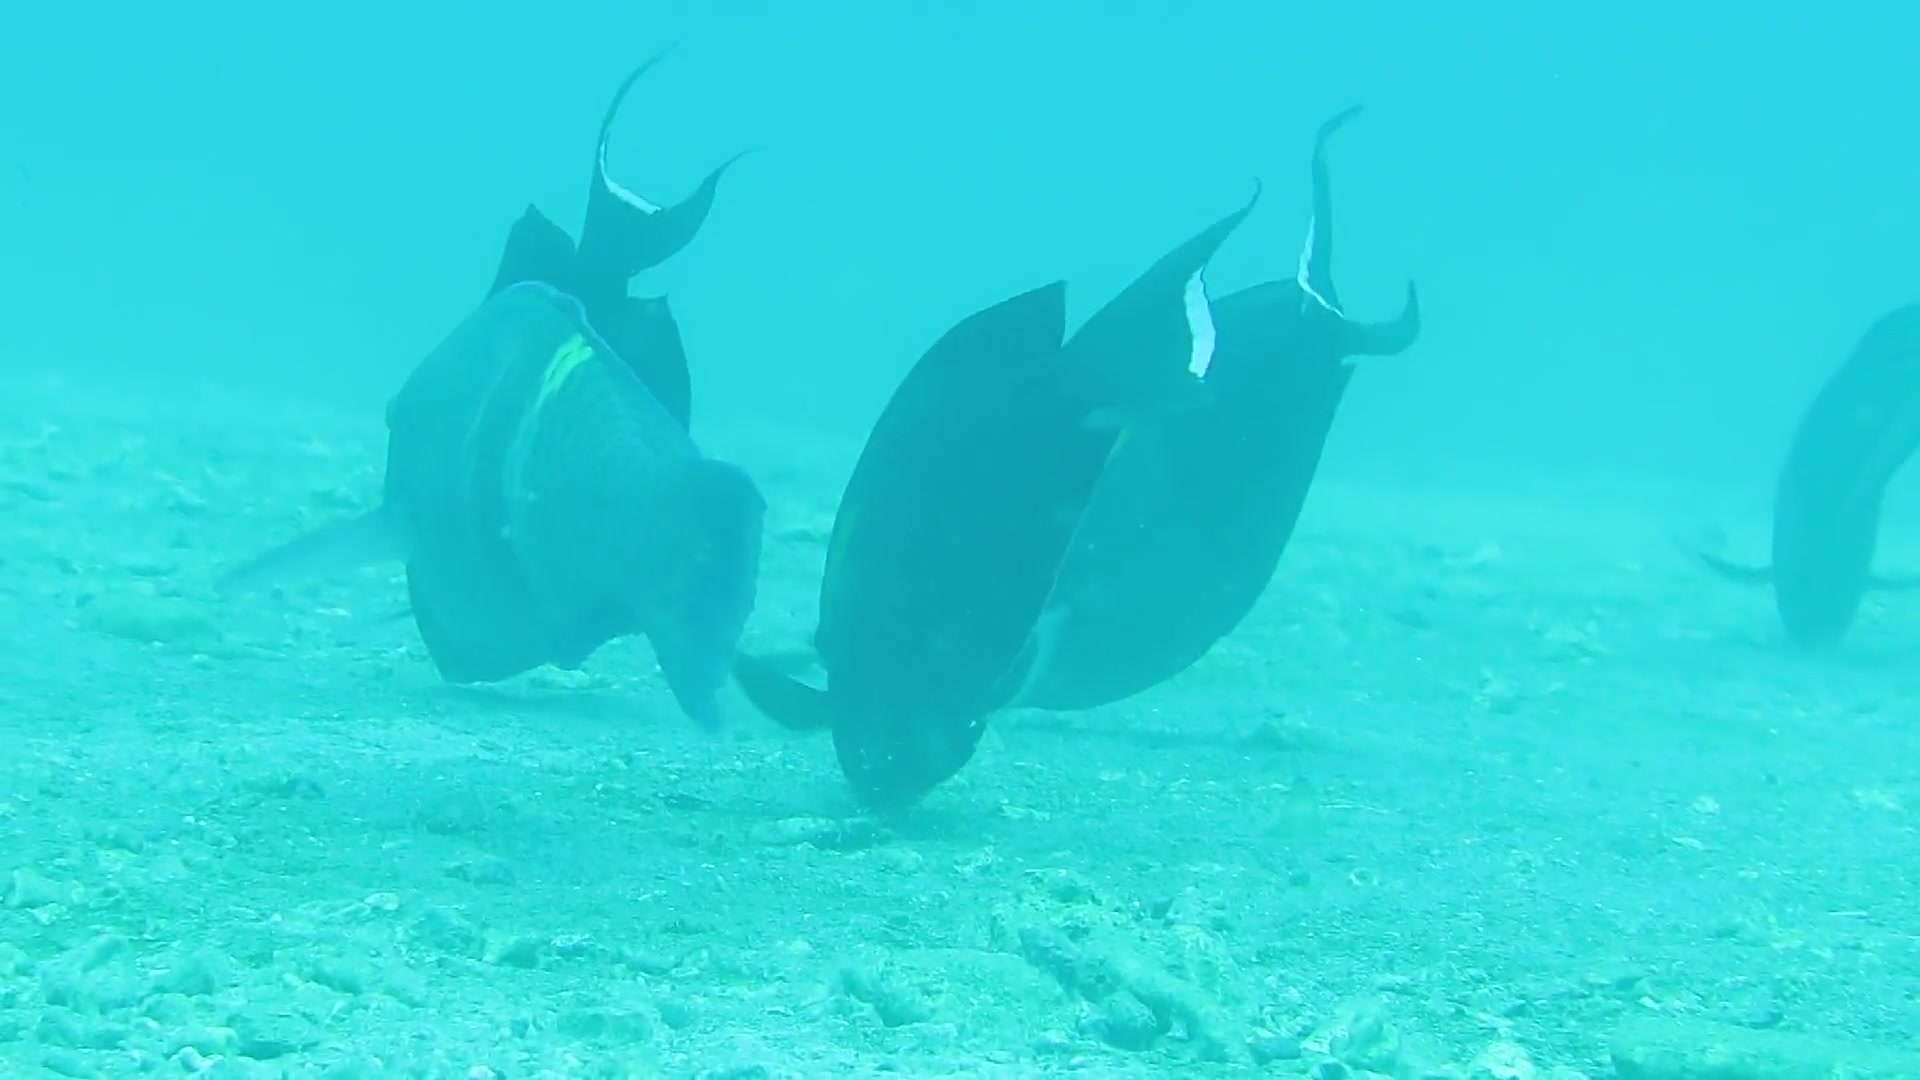Acanthurus olivaceus: (295, 157, 783, 774), (765, 239, 1251, 856), (1048, 148, 1535, 765), (1722, 196, 1920, 778)
